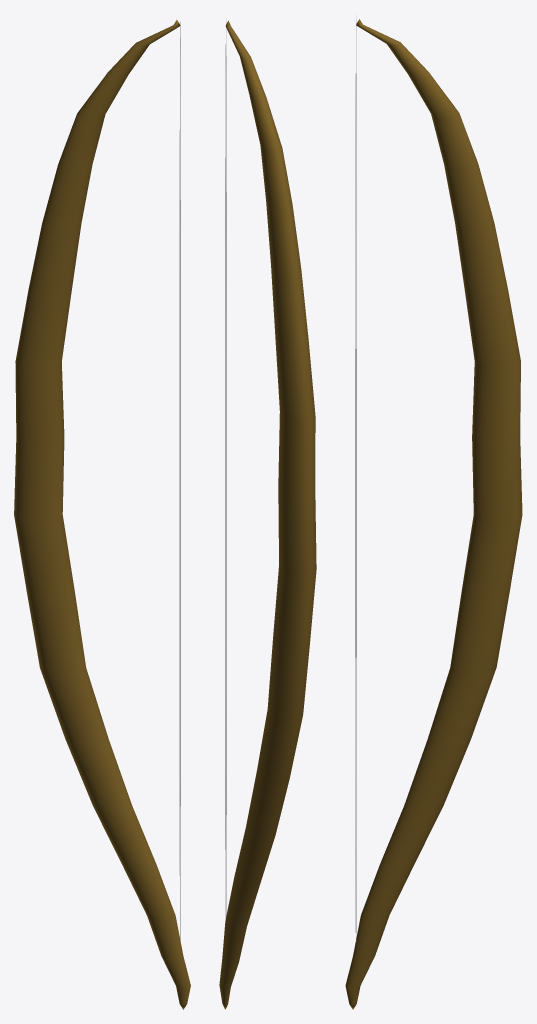
The model's file is Bow.fbx.
The picture shows the model from 3 angles, left to right: view 1: azimuth 90°, elevation 25°; view 2: azimuth 210°, elevation 25°; view 3: azimuth 270°, elevation 25°; orthographic projection.
Parts seen in each view (by area): view 1: polySurface2; view 2: polySurface2; view 3: polySurface2.
Boxes of the visible parts, x1,y1,x2,y2 form: polySurface2: (14,20,190,1009); polySurface2: (219,15,316,1009); polySurface2: (345,14,522,1009).
Size of the model in its own units: 0.3284 by 10.94 by 1.76.
